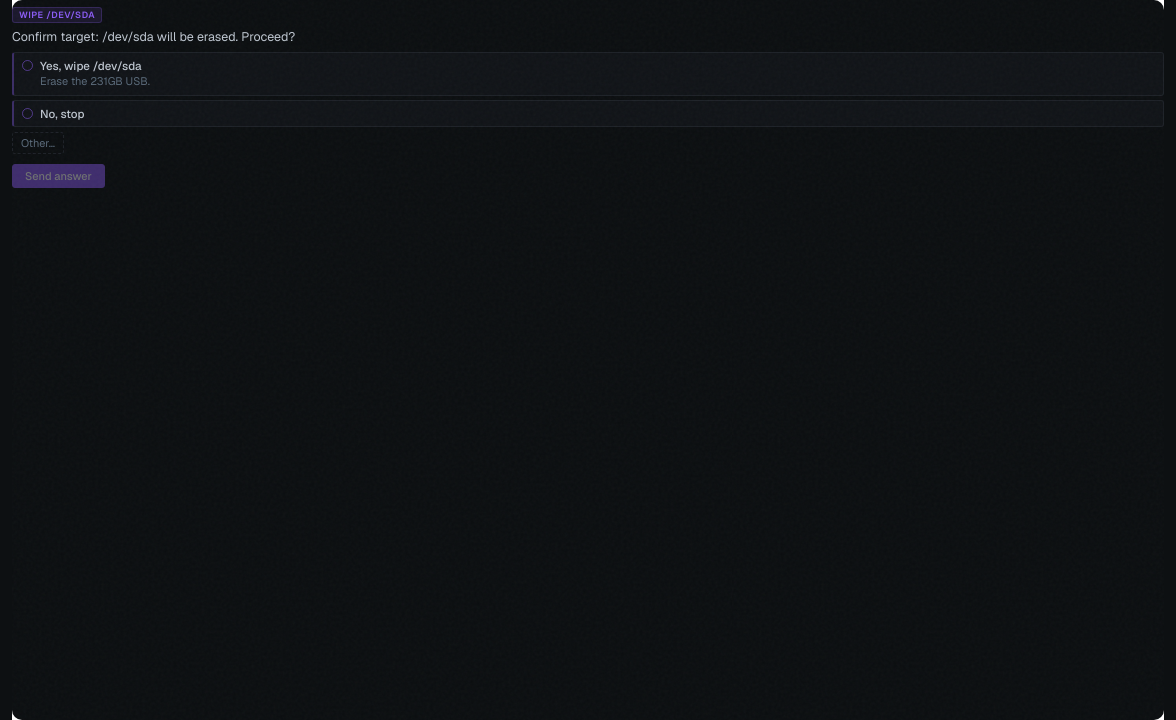
Test case: AskUserQuestionView › leaves Send disabled while the Other box is blank
Click the button "No, stop": click(62, 113) [12,100,1164,126]
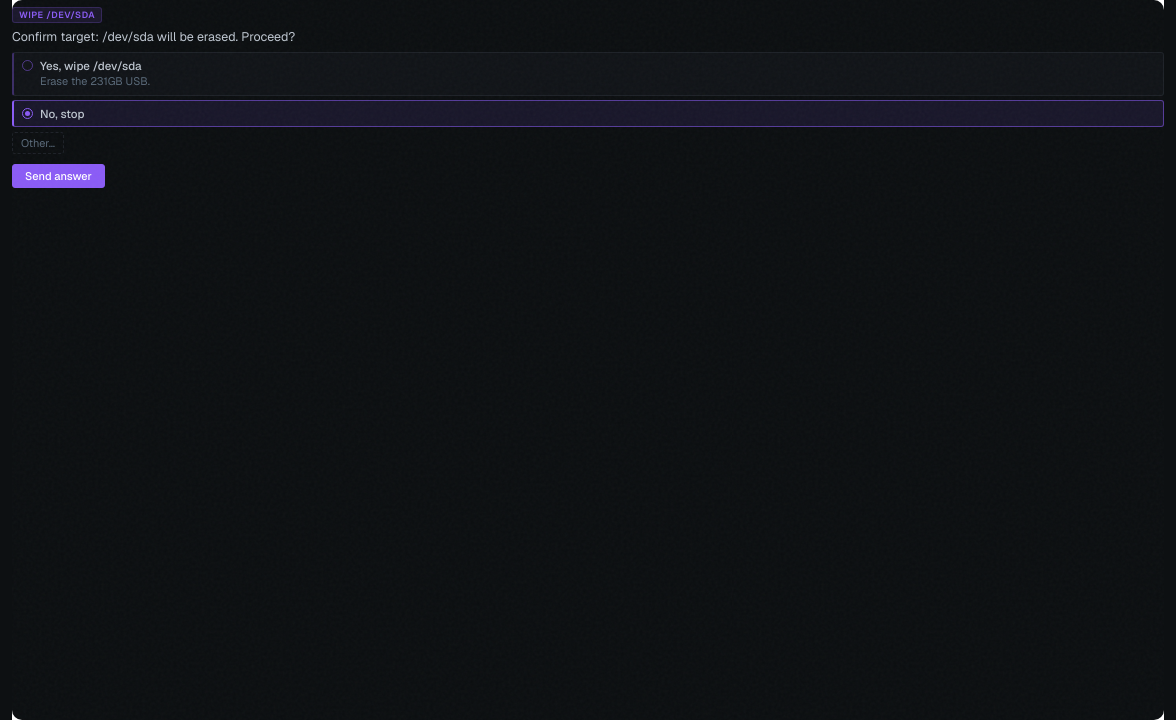
Click the button "Other…": click(38, 142) [12,132,64,154]
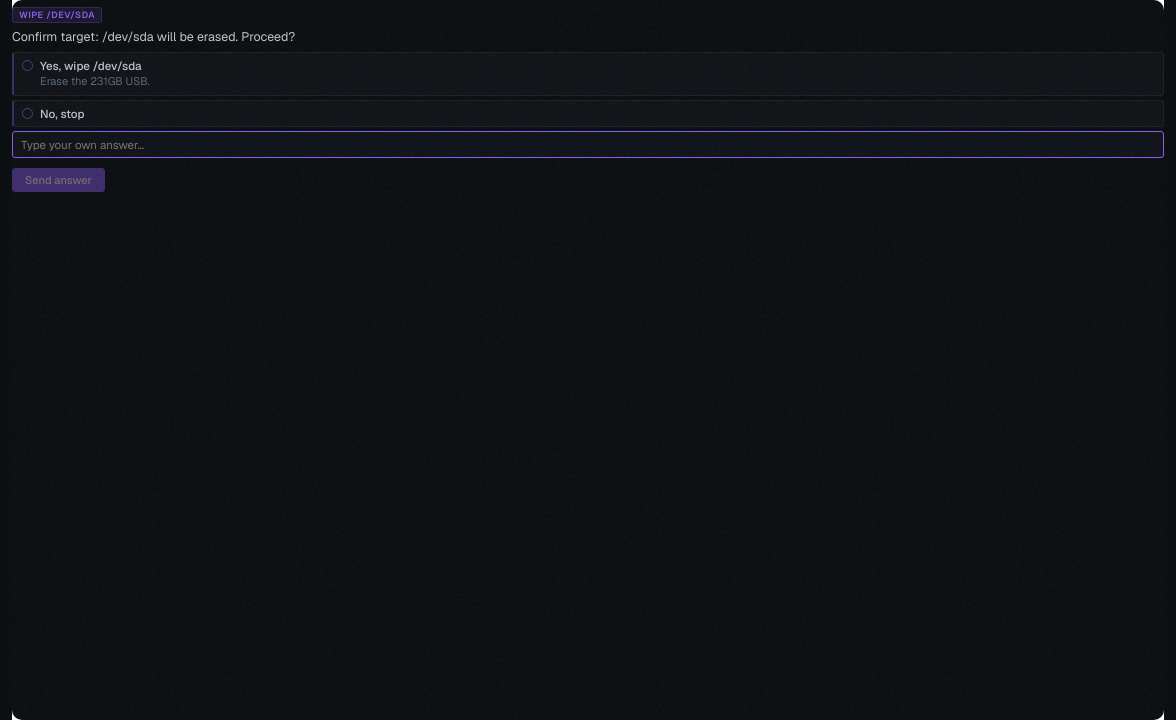
expect the button "Send answer" is disabled: met, box [12,168,105,192]
